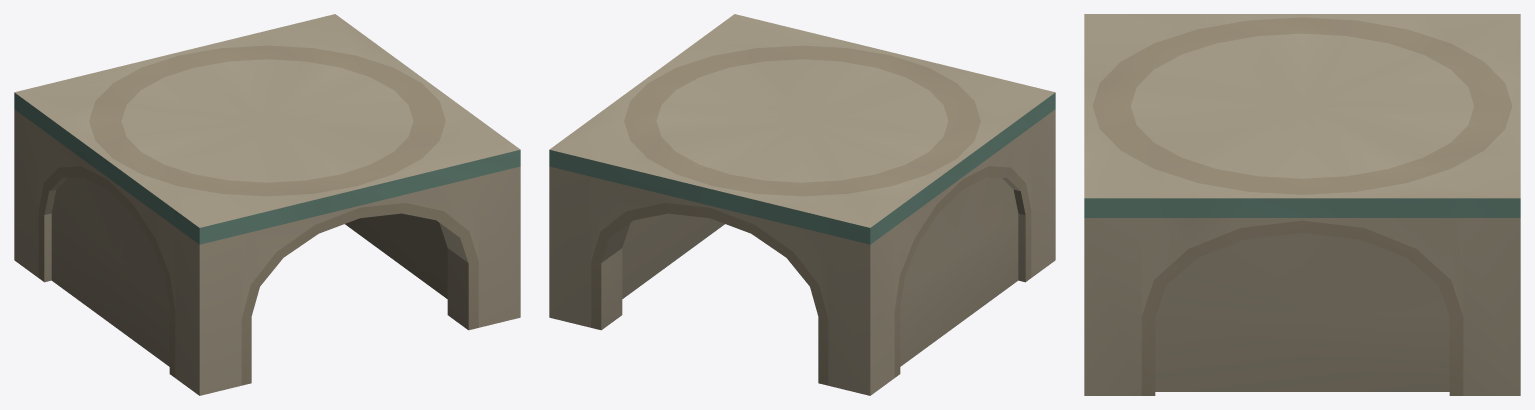
Rendered from dome.arch_2way.copper.glb.
The picture shows the model from 3 angles, left to right: view 1: azimuth 30°, elevation 25°; view 2: azimuth 150°, elevation 25°; view 3: azimuth 270°, elevation 25°; orthographic projection. The views are drawn at different scales.
Visible parts, largest first — view 1: dome_arch_2way_copper; view 2: dome_arch_2way_copper; view 3: dome_arch_2way_copper.
Boxes of the visible parts, x1,y1,x2,y2 form: dome_arch_2way_copper: [14, 14, 520, 395]; dome_arch_2way_copper: [549, 14, 1055, 395]; dome_arch_2way_copper: [1084, 14, 1520, 395].
Size of what is drawn, in the model's own units: 8 by 4 by 8.
